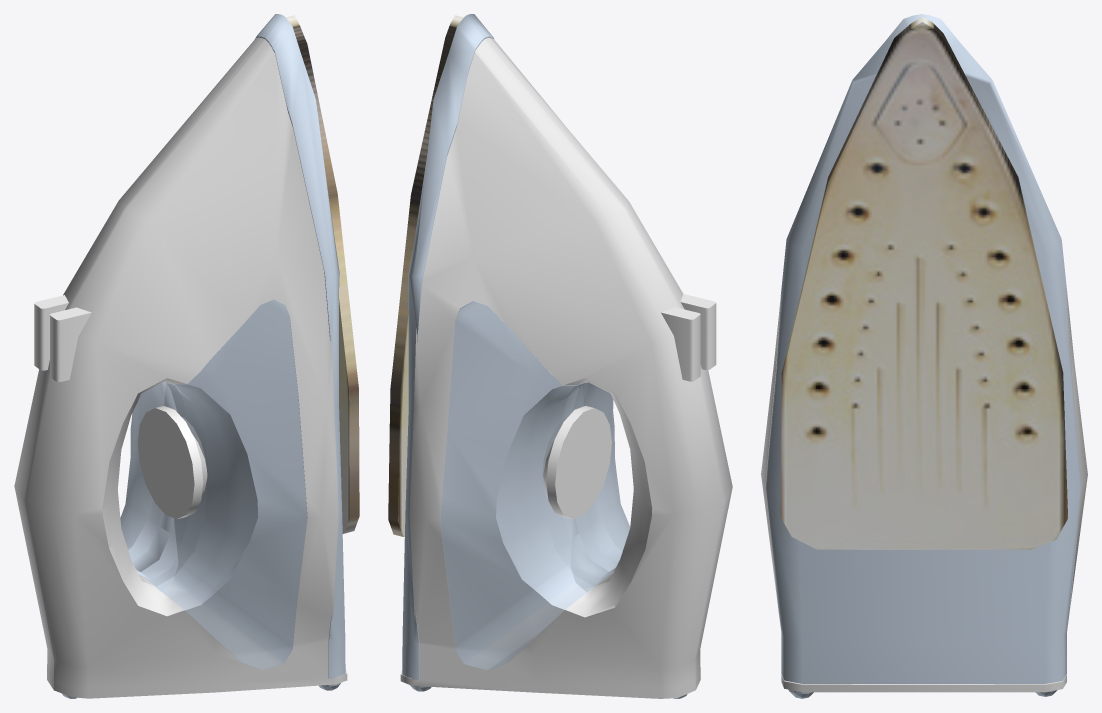
File: sweethome3d-contributions-iron-305.glb
The picture shows the model from 3 angles, left to right: view 1: azimuth 30°, elevation 25°; view 2: azimuth 150°, elevation 25°; view 3: azimuth 270°, elevation 25°; orthographic projection. The views are drawn at different scales.
Parts seen in each view (by area): view 1: fer_a_repasser, reservoir, bas, fer, bouton_central, bouton_1, bouton_2; view 2: fer_a_repasser, reservoir, bas, fer, bouton_central, bouton_2, bouton_1; view 3: fer, bas, fer_a_repasser.
Part boxes in pixels (x1,y1,x2,y2): fer_a_repasser: (14, 37, 347, 698); reservoir: (120, 299, 307, 669); bas: (255, 14, 345, 678); fer: (286, 15, 359, 533); bouton_central: (137, 406, 207, 518); bouton_1: (50, 307, 91, 382); bouton_2: (34, 295, 68, 370); fer_a_repasser: (400, 38, 732, 698); reservoir: (440, 301, 630, 670); bas: (402, 14, 493, 679); fer: (388, 15, 463, 536); bouton_central: (542, 406, 611, 518); bouton_2: (661, 307, 700, 381); bouton_1: (680, 294, 716, 370); fer: (780, 17, 1067, 549); bas: (765, 14, 1081, 683); fer_a_repasser: (761, 288, 1087, 692).
Size of the model in its own units: 13.7 by 30.61 by 13.17.
Materials: 7 (1 with a texture image).
